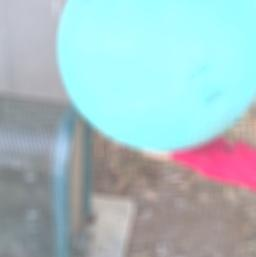algae: (53, 0, 256, 154)
